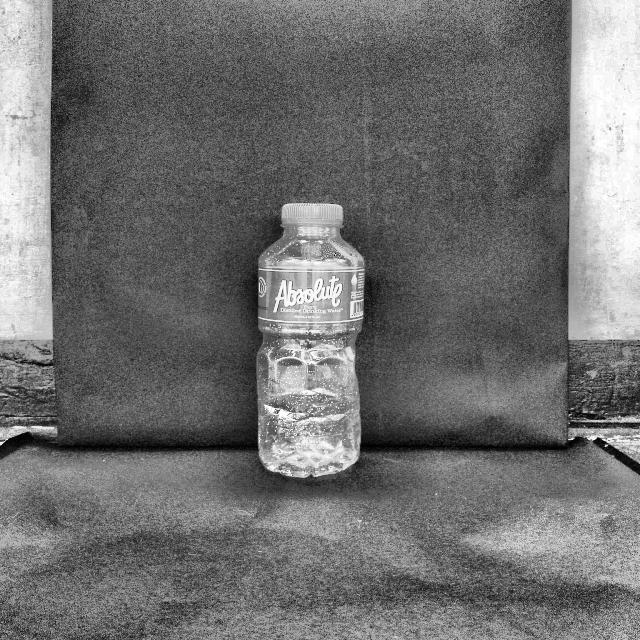Plastic-Bottle: (253, 198, 364, 481)
